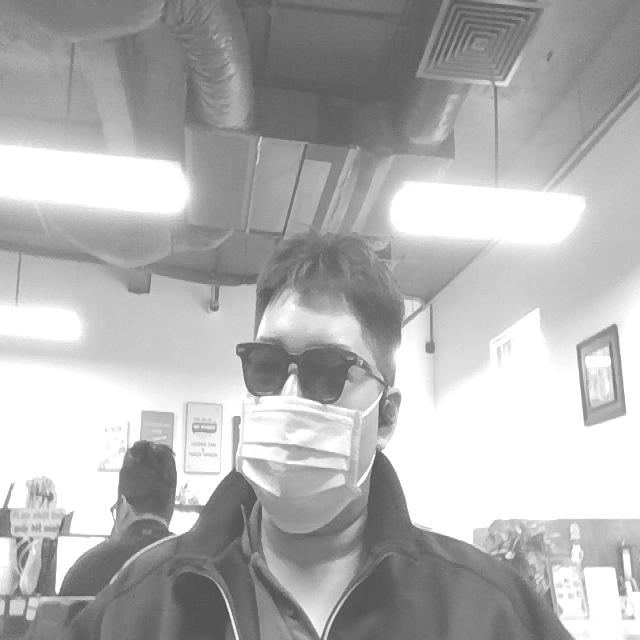fake: (236, 396, 369, 537), (234, 334, 387, 404)
